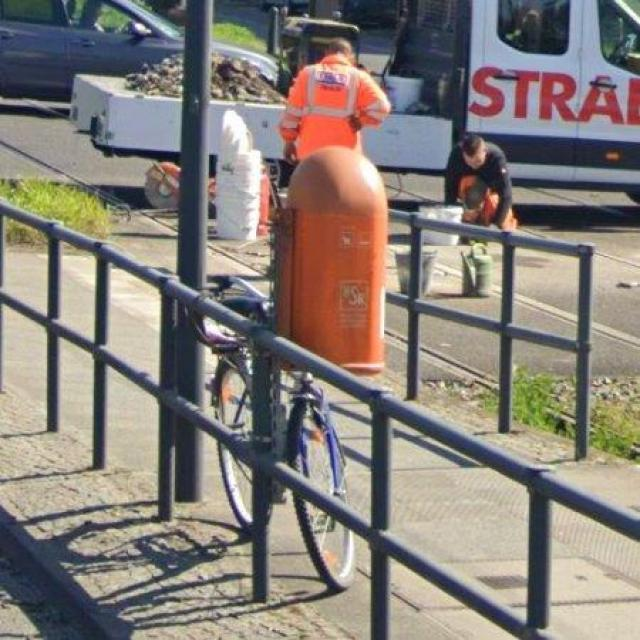bicycle: (275, 371, 348, 503), (200, 323, 251, 439), (296, 496, 355, 593), (212, 280, 273, 326), (220, 444, 251, 534)
